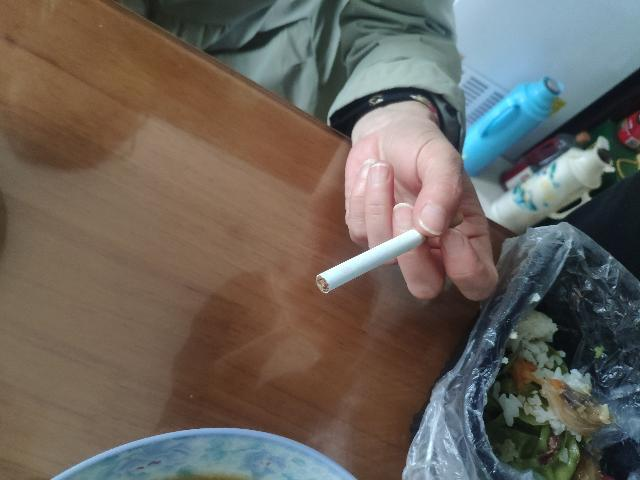Smoking: (316, 210, 464, 294)
